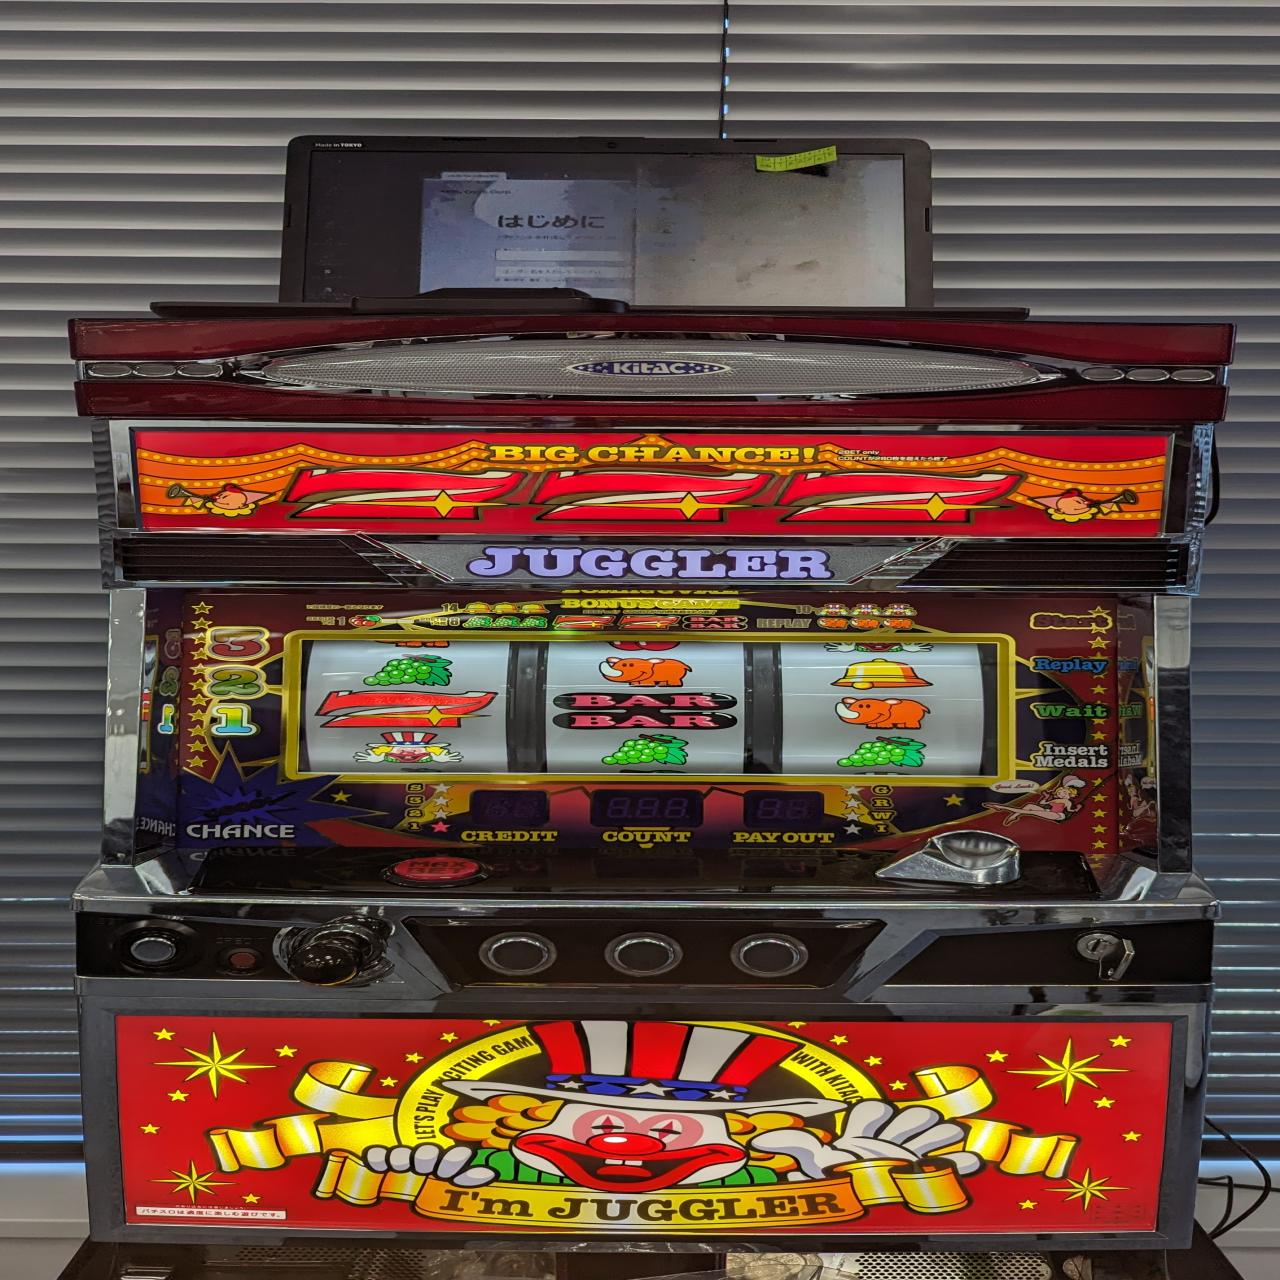7: (312, 690, 495, 728)
8: (832, 695, 931, 730), (595, 655, 690, 686)
Display: (287, 633, 1015, 787)
bar: (546, 692, 741, 730)
bell: (828, 658, 934, 692)
clown: (353, 731, 462, 764)
grape: (365, 653, 454, 688), (839, 735, 926, 770), (600, 734, 690, 767)
